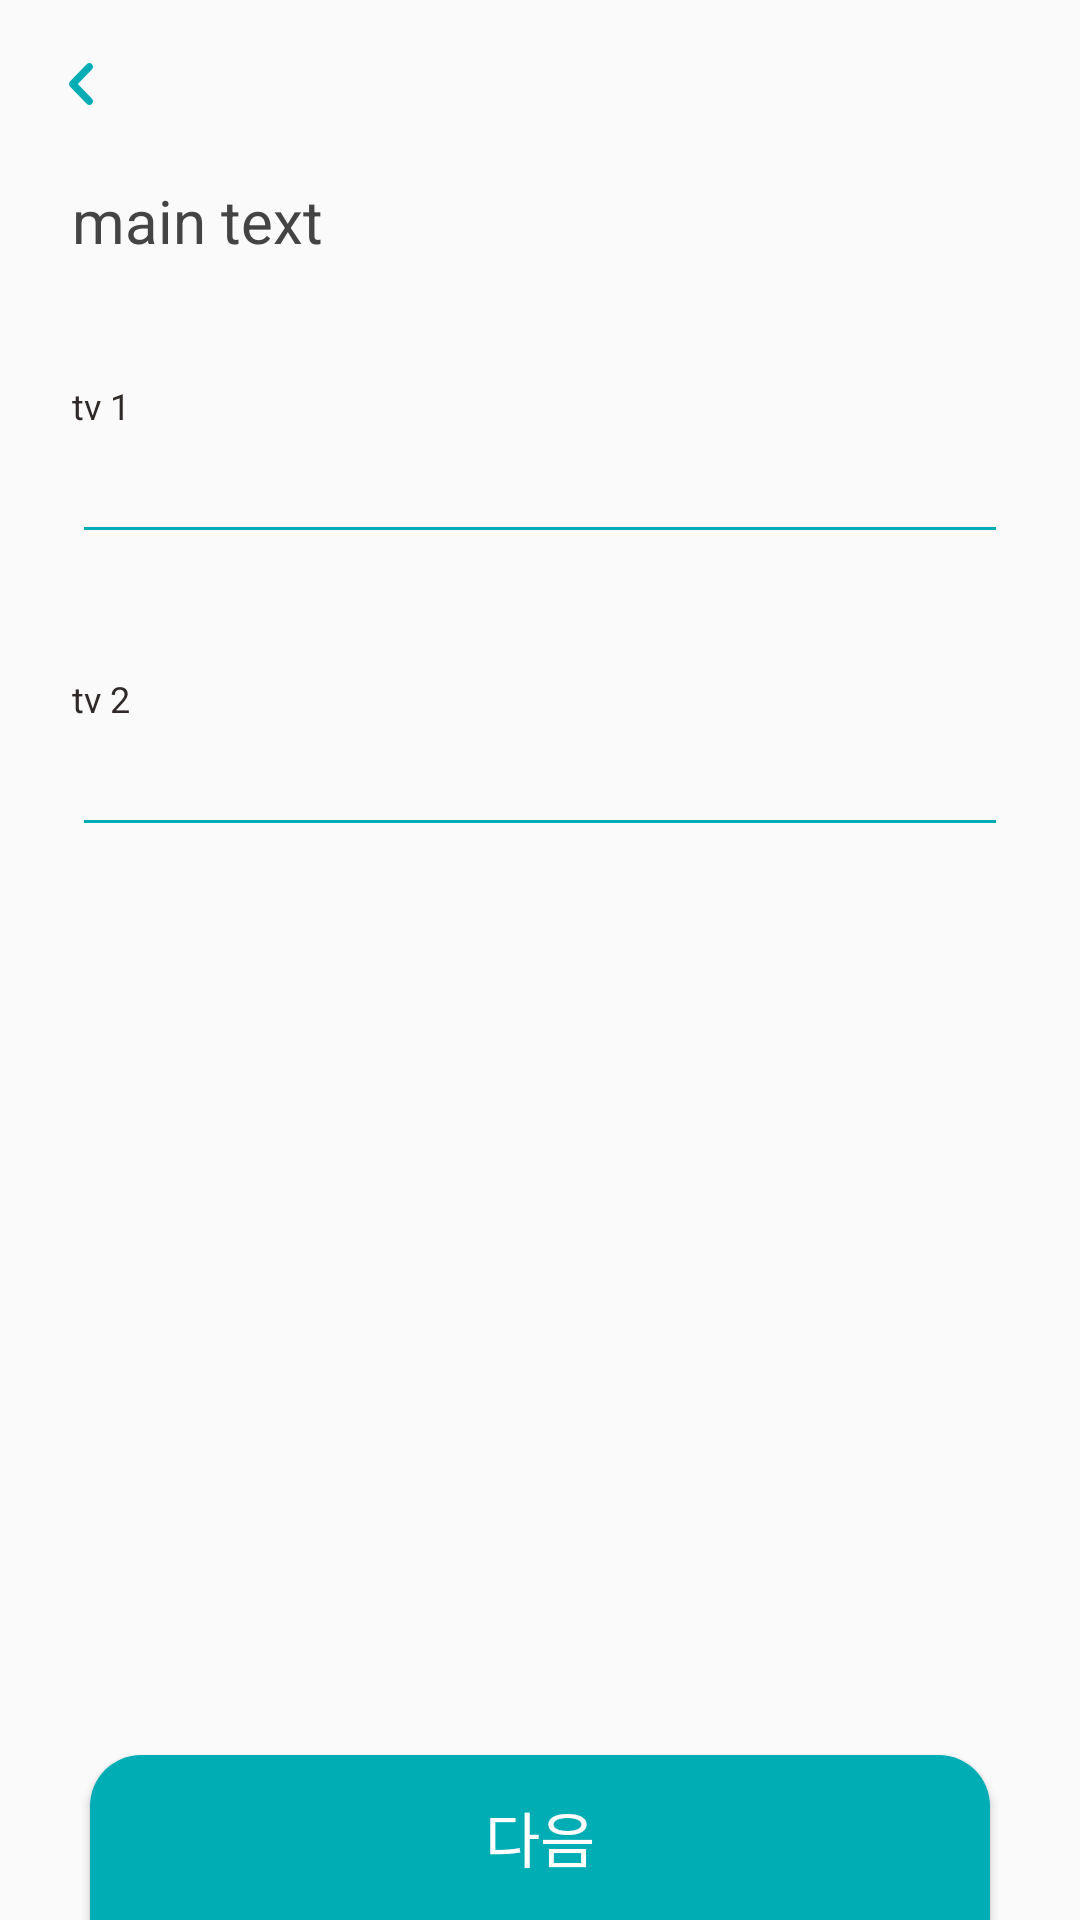

Where to tap for icons on this 1080 x 1920 app screen, as (x,y):
back: (81,84)
